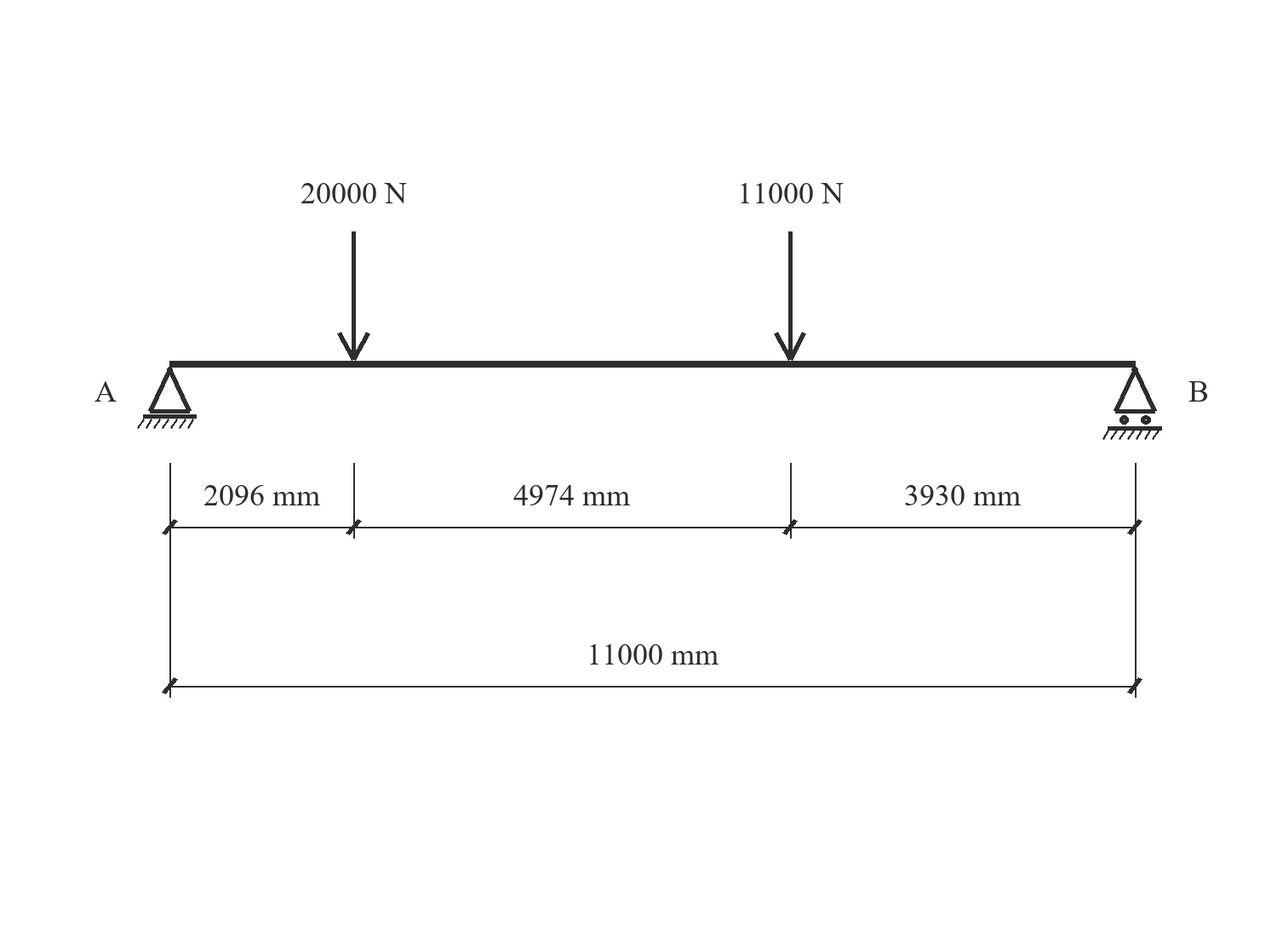pin_support: (137, 367, 197, 429)
point_load: (337, 231, 370, 361), (774, 231, 806, 361)
roller_support: (1102, 367, 1162, 440)
